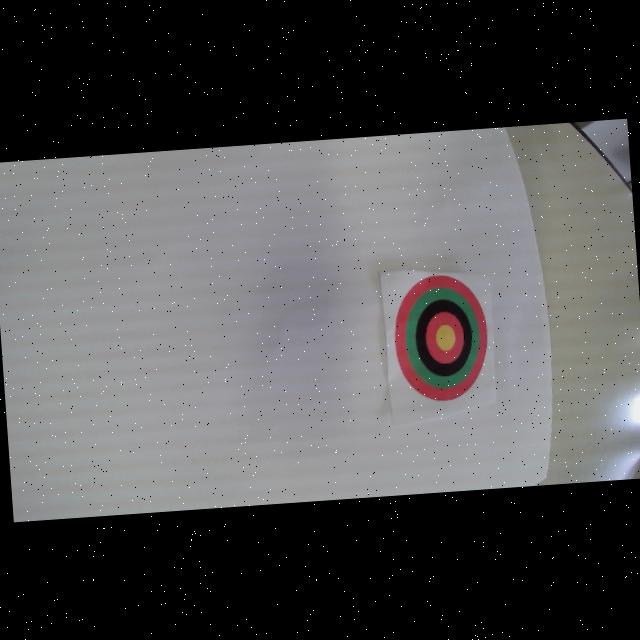COGNITIVE: (389, 270, 492, 403)
